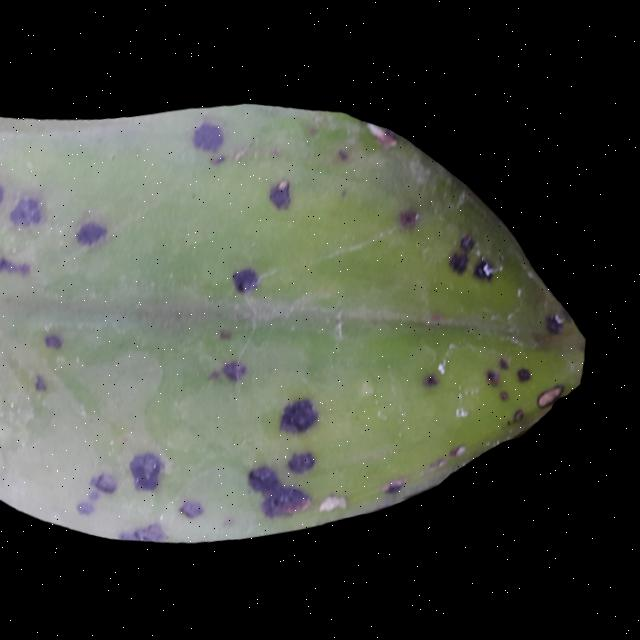mite: (482, 342, 574, 430), (484, 348, 541, 404), (132, 448, 173, 494), (290, 447, 324, 476), (421, 364, 450, 392), (515, 358, 542, 387), (449, 246, 476, 274), (474, 254, 501, 281), (546, 308, 572, 335), (488, 365, 508, 387), (519, 363, 538, 383), (425, 370, 445, 388), (514, 405, 532, 423), (500, 353, 516, 371), (502, 386, 517, 401)
sunburn: (0, 11, 608, 578)
